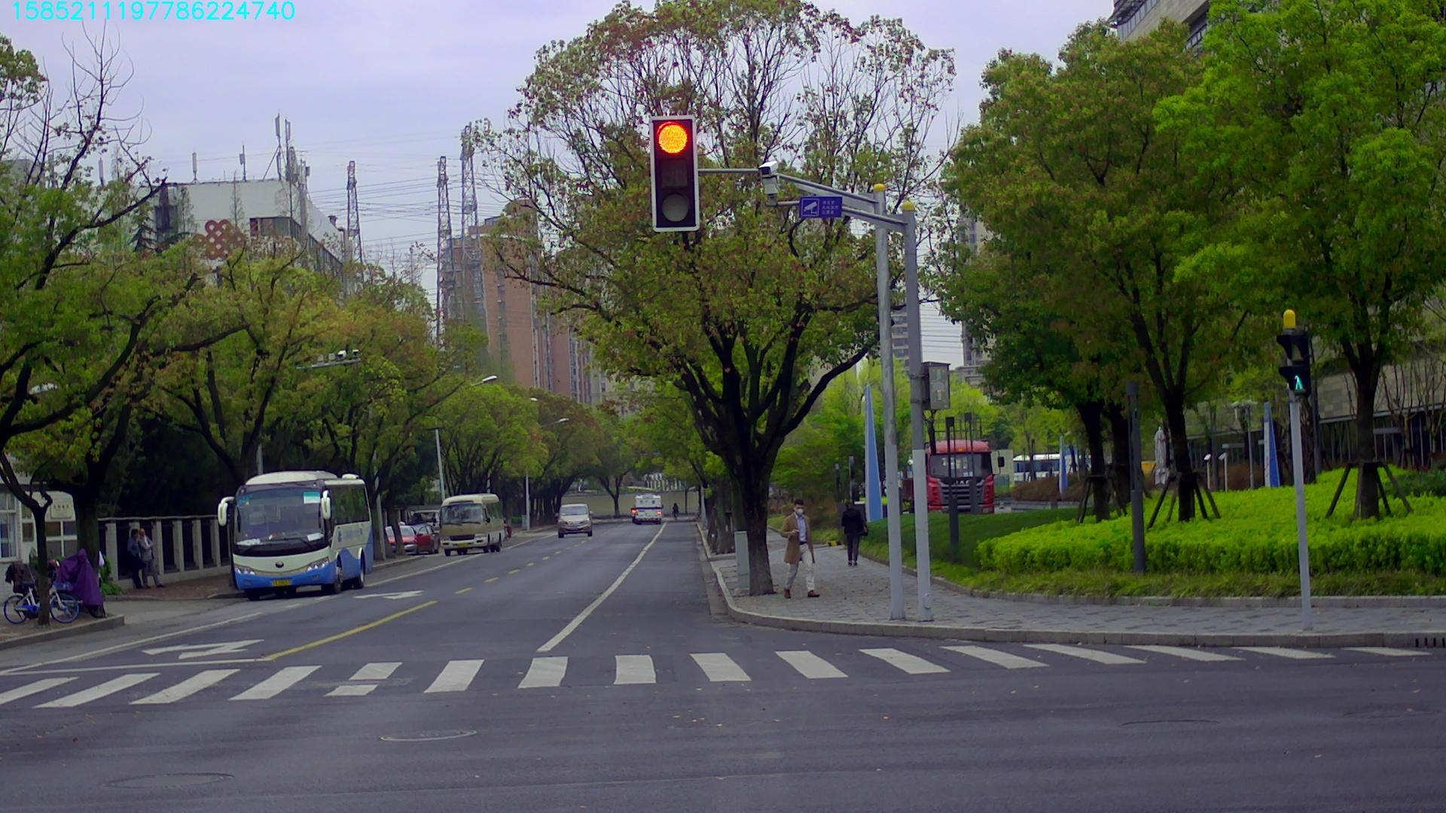red: (651, 117, 696, 229)
